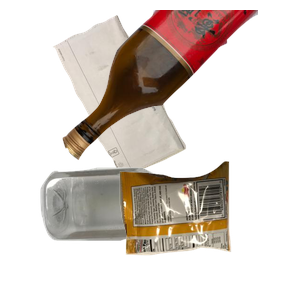glass: (60, 10, 300, 163)
paper: (51, 13, 230, 186)
plastic: (38, 165, 255, 300)
trash: (117, 159, 300, 300)
